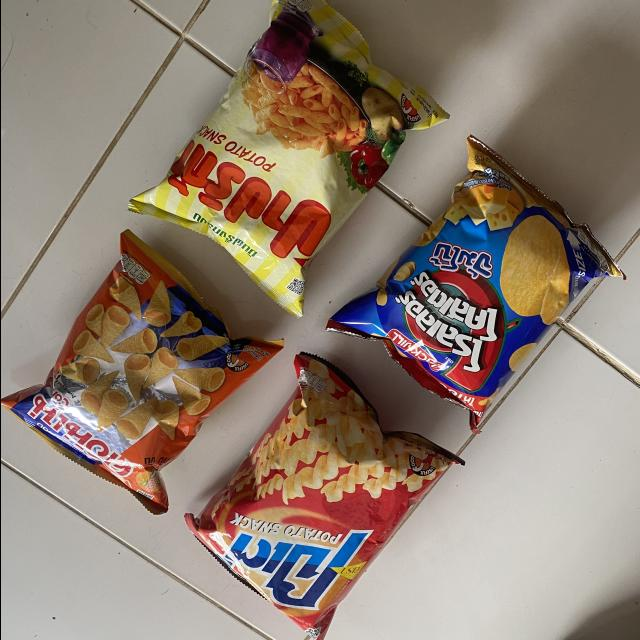plastik: (129, 0, 449, 317), (327, 136, 623, 433), (185, 353, 463, 640), (0, 231, 282, 512)
